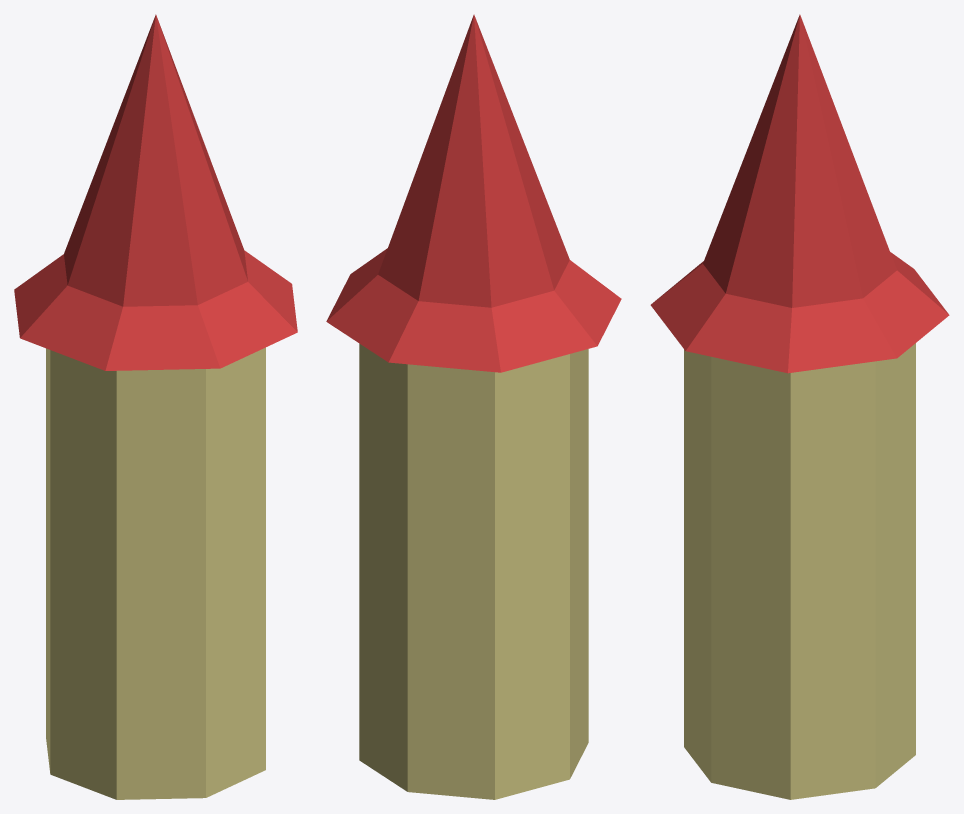
3 views of the same model, side by side, from view 1: azimuth 30°, elevation 25°; view 2: azimuth 150°, elevation 25°; view 3: azimuth 270°, elevation 25° (orthographic).
Bounding box in the file's own units: 4.82 × 4.82 × 13.11.
